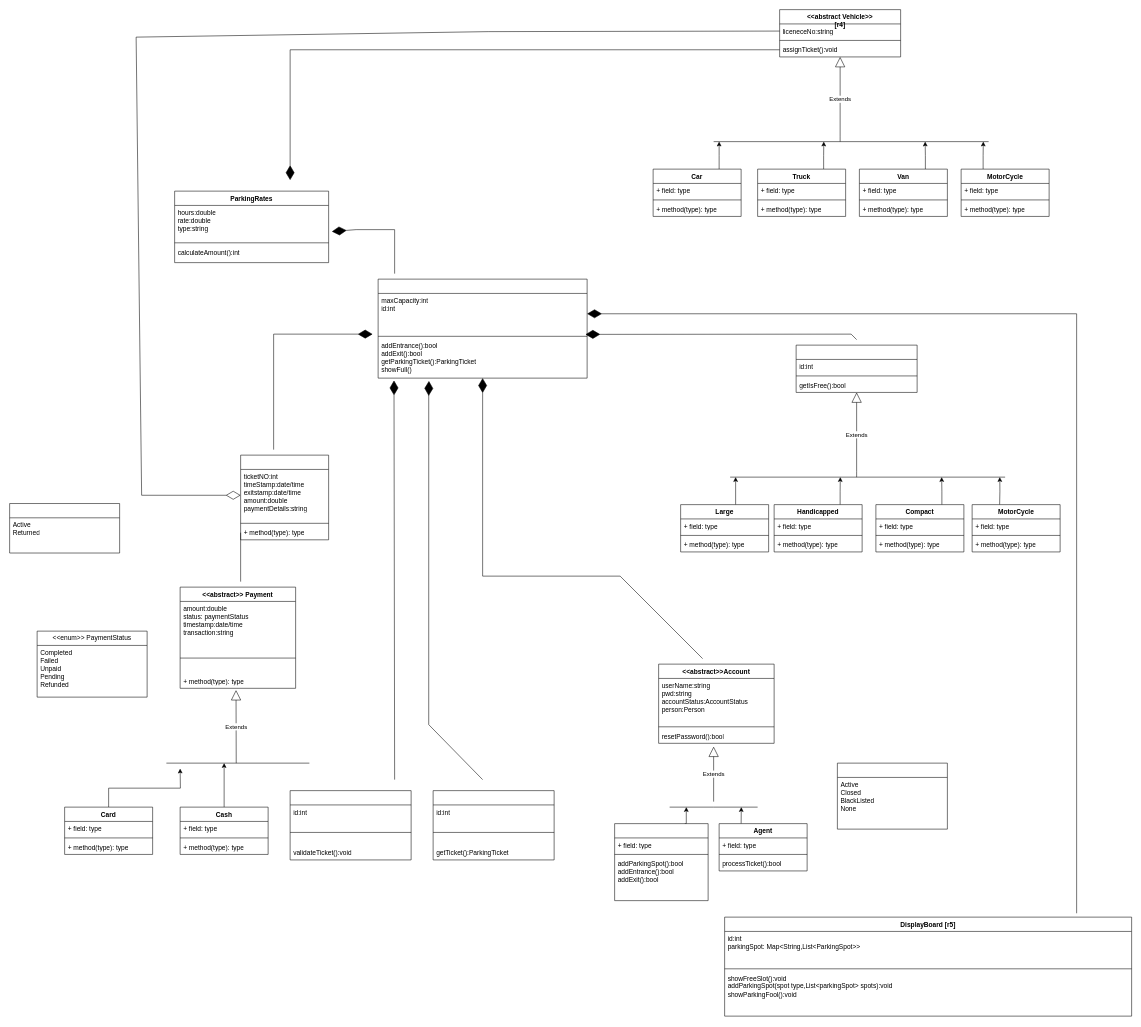
The diagram is 1141 pixels wide and 1027 high, and some of its shapes have lost their labels. Each missing label, with the box of its shape:
<<abstract ParkingSpot>> [r2]: (796, 345, 917, 392)
<<enum>> AccountStatus: (837, 763, 947, 829)
<<enum>> TicketStatus: (9, 503, 120, 553)
Admin: (614, 823, 708, 901)
Entrance: (433, 790, 554, 860)
Exit: (290, 790, 411, 860)
ParkingLotSystem: (378, 279, 587, 378)
ParkingTicket: (240, 455, 329, 540)
